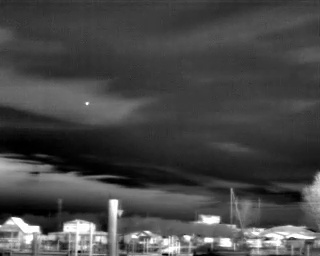BIRD: (83, 99, 92, 108)
